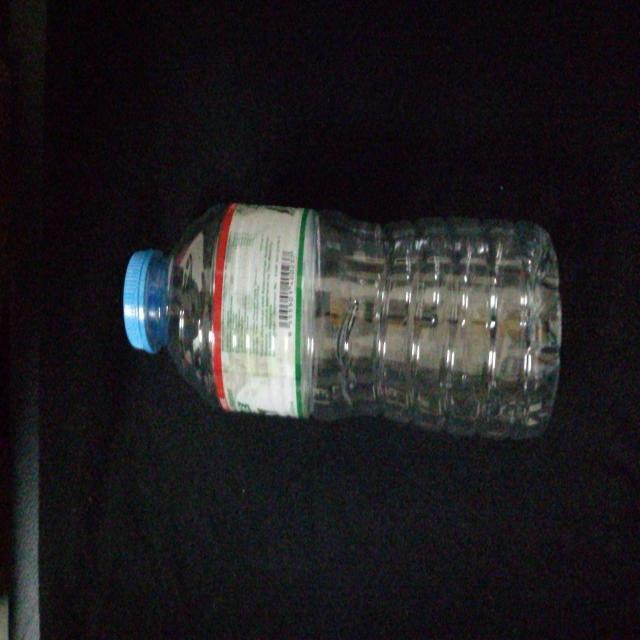Pet_Bottle: (124, 199, 561, 434)
